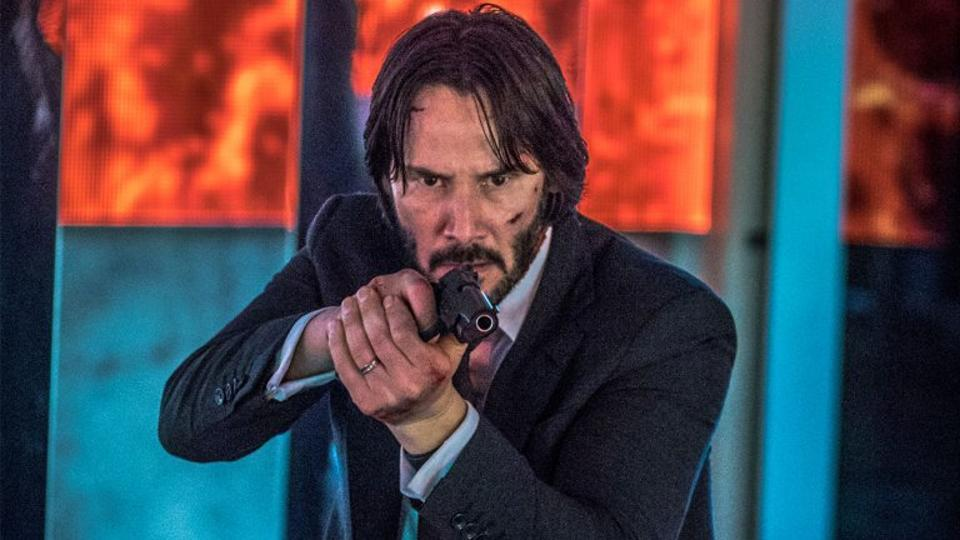gun: (404, 261, 504, 349)
